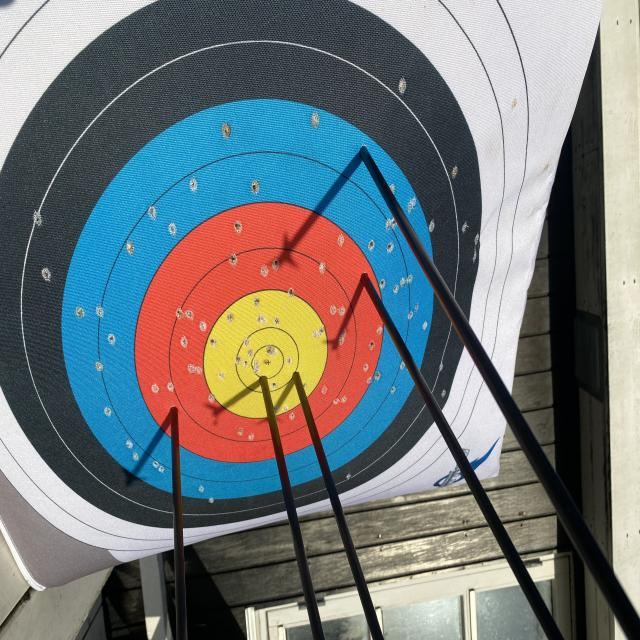Arrow_Blue: (349, 126, 382, 184)
Arrow_Red: (352, 264, 394, 300), (153, 394, 193, 430)
Arrow_Yellow: (247, 362, 272, 399), (282, 362, 310, 386)
